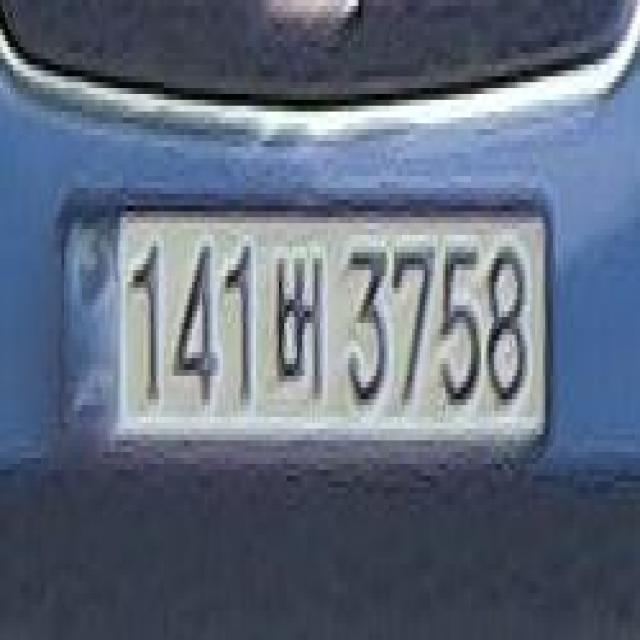illegal_plate: (58, 182, 552, 483)
